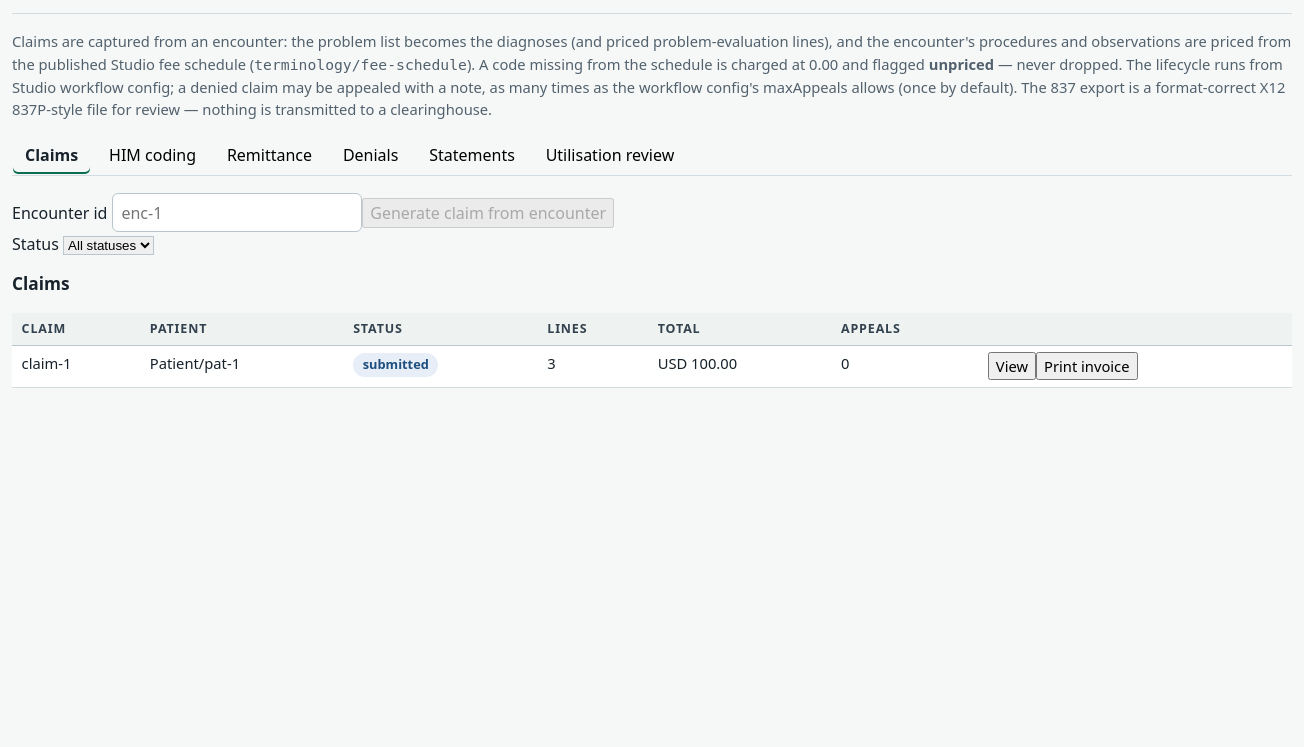
Test: BillingPage › renders the claims list, then the detail with line items, totals, the unpriced flag and history
Expected: the text "claim-1" is shown, [12,345,140,387]
Click the button "View". click: (1012, 366)
box: [988,352,1036,380]
(page scrolled)
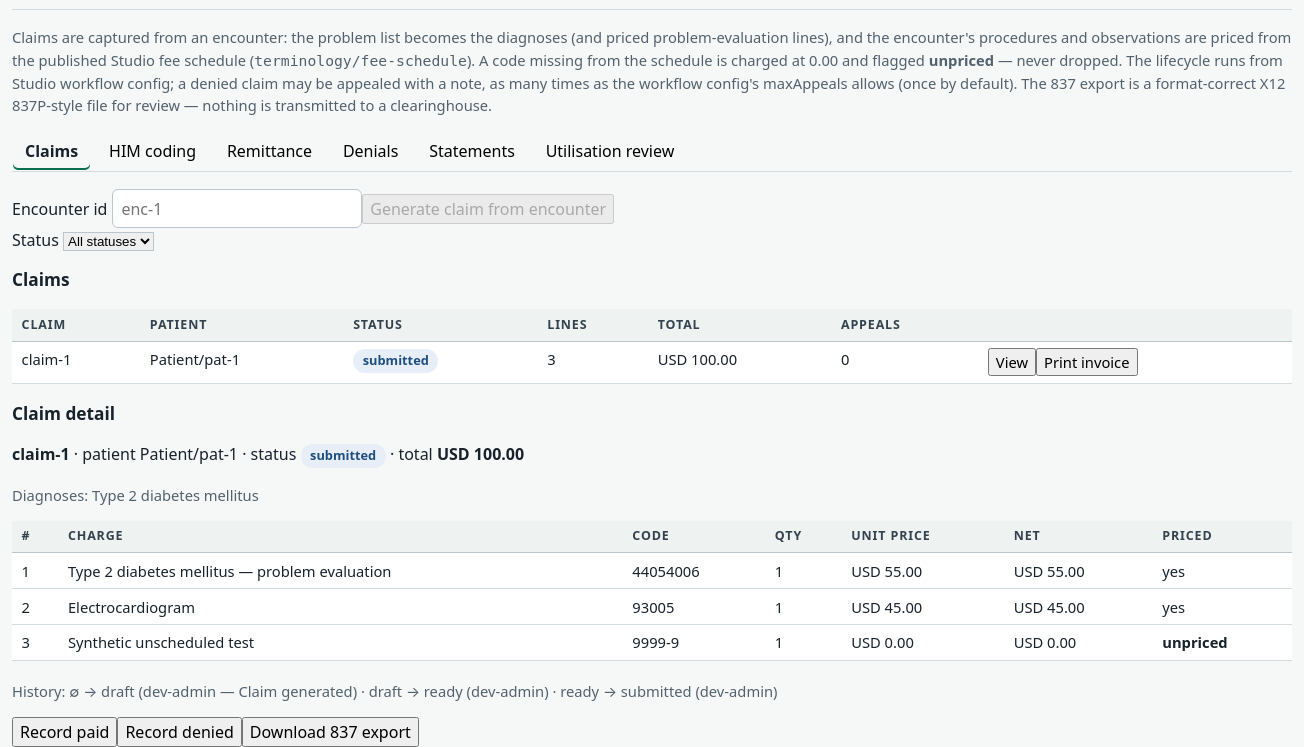
Result: the text "Electrocardiogram" is shown at [58,589,623,625]
Result: the text "Synthetic unscheduled test" is shown at [58,625,623,660]
Result: the text "Diagnoses: Type 2 diabetes mellitus" is shown at [12,485,259,505]
